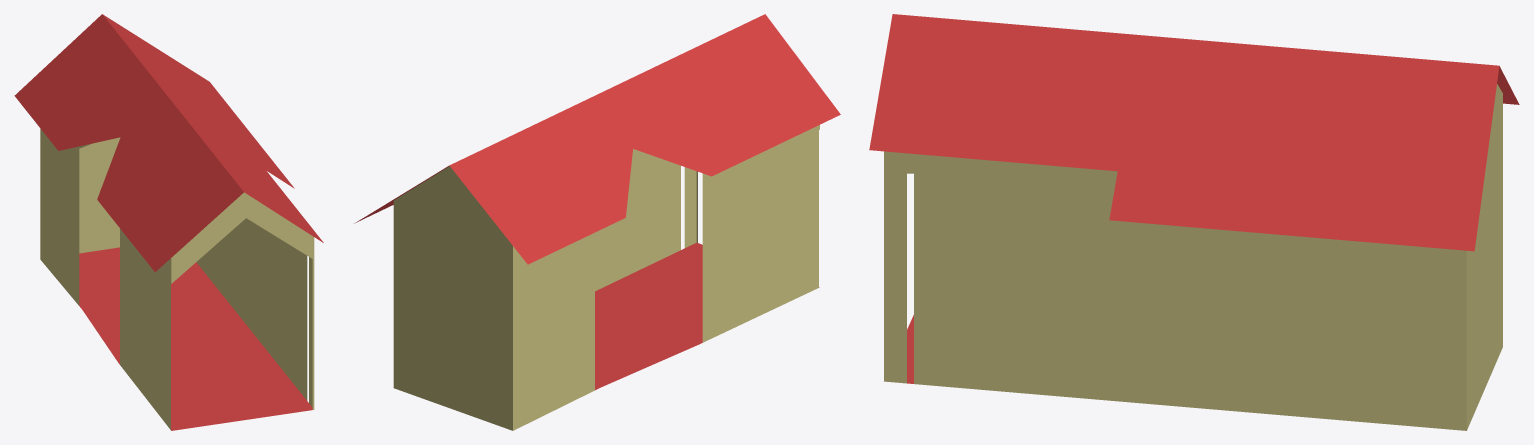
3 views of the same model, side by side, from view 1: azimuth 30°, elevation 25°; view 2: azimuth 150°, elevation 25°; view 3: azimuth 270°, elevation 25° (orthographic). The views are drawn at different scales.
Bounding box in the file's own units: 22.27 × 35.42 × 19.35.
